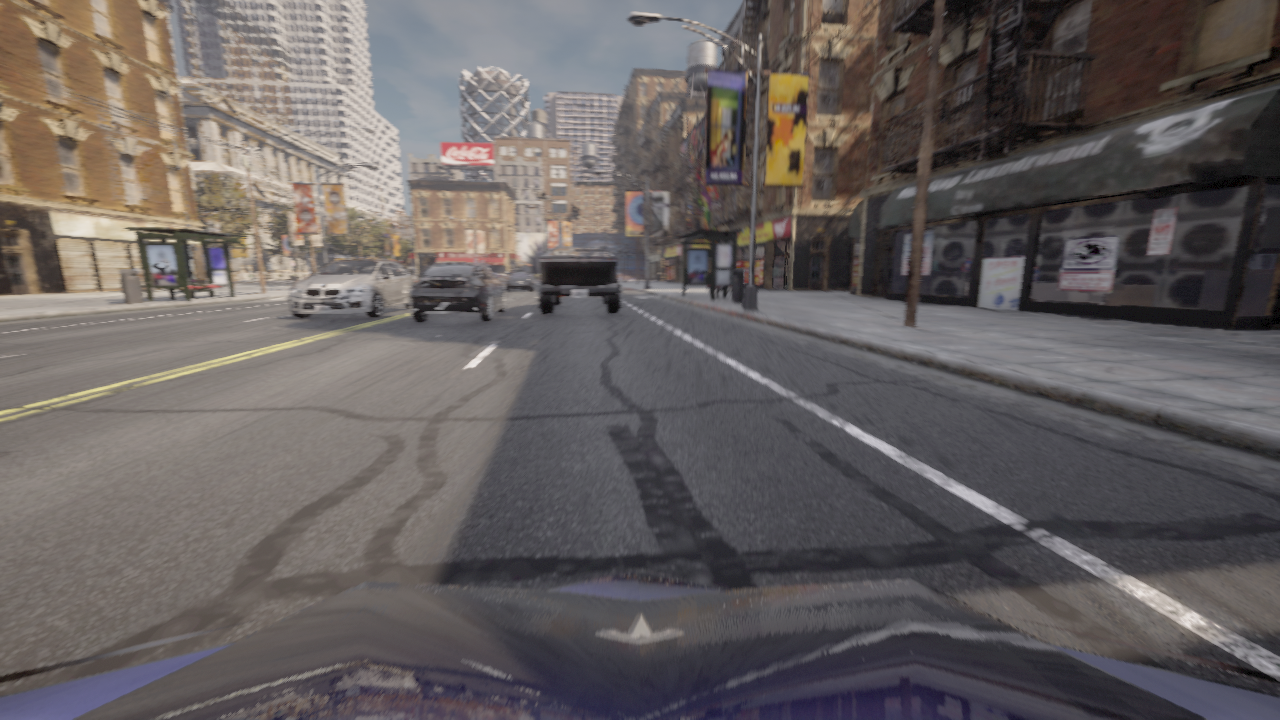cyclist: (0, 569, 1279, 719), (288, 259, 414, 317), (535, 247, 622, 314), (410, 262, 506, 321), (416, 261, 448, 280), (505, 272, 532, 290), (492, 272, 499, 280), (407, 269, 412, 275), (504, 272, 510, 277), (498, 273, 502, 277), (413, 276, 415, 280)
